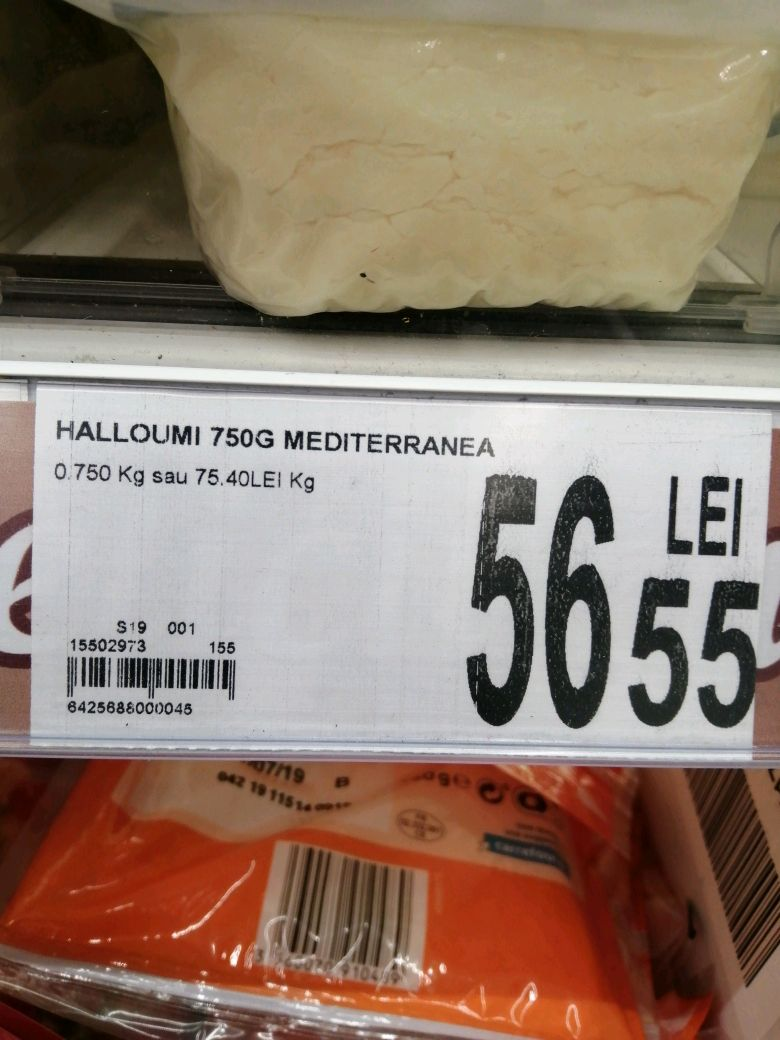price_bani: (623, 567, 770, 740)
price_lei: (451, 466, 619, 739)
price_tag: (9, 367, 776, 775)
product_id: (52, 698, 205, 721)
product_name: (46, 412, 508, 461)
